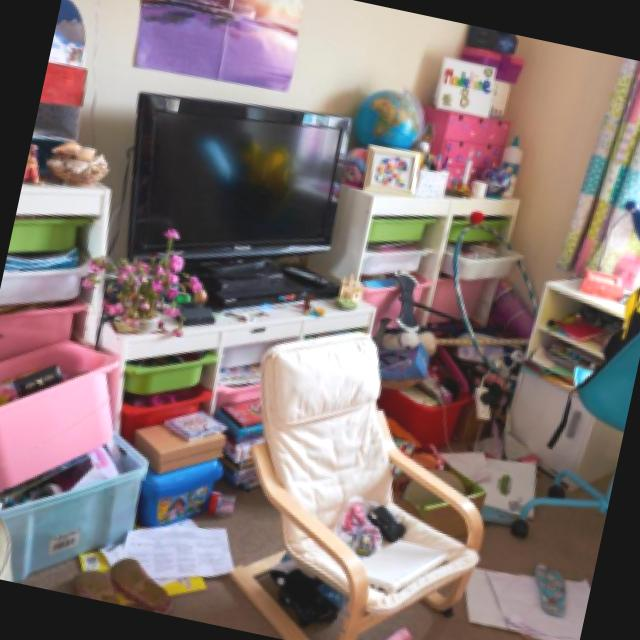mess: (0, 317, 262, 542), (326, 142, 561, 380), (370, 440, 612, 640), (318, 27, 570, 217), (45, 518, 362, 640), (110, 217, 354, 358), (0, 121, 127, 370), (512, 248, 640, 440), (130, 501, 311, 575)
